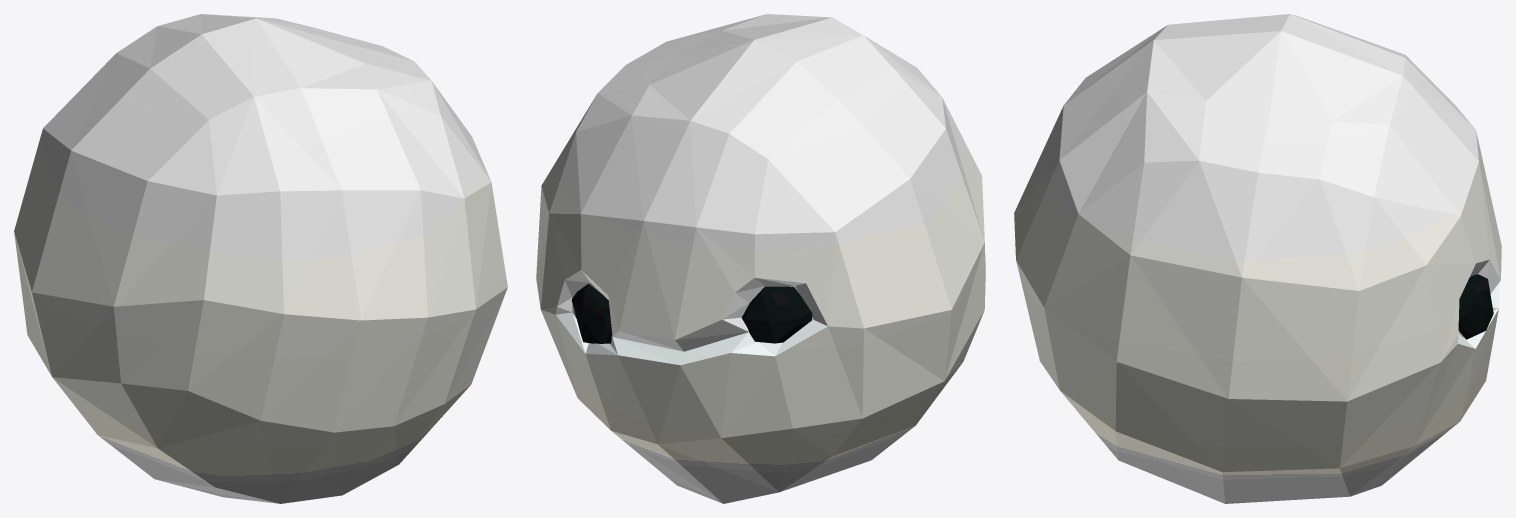
Rendered from CharSkyKid_Hair_Snowman.glb.
3 views of the same model, side by side, from view 1: azimuth 30°, elevation 25°; view 2: azimuth 150°, elevation 25°; view 3: azimuth 270°, elevation 25° (orthographic). The views are drawn at different scales.
Parts seen in each view (by area): view 1: CharSkyKid_Hair_Snowman; view 2: CharSkyKid_Hair_Snowman; view 3: CharSkyKid_Hair_Snowman.
Boxes of the visible parts, box(x1,y1,x2,y2) form: CharSkyKid_Hair_Snowman: box(14, 14, 507, 503); CharSkyKid_Hair_Snowman: box(536, 14, 985, 503); CharSkyKid_Hair_Snowman: box(1014, 14, 1501, 503).
Bounding box in the file's own units: 5.32 × 5.52 × 5.36.
Materials: 1 (1 with a texture image).
